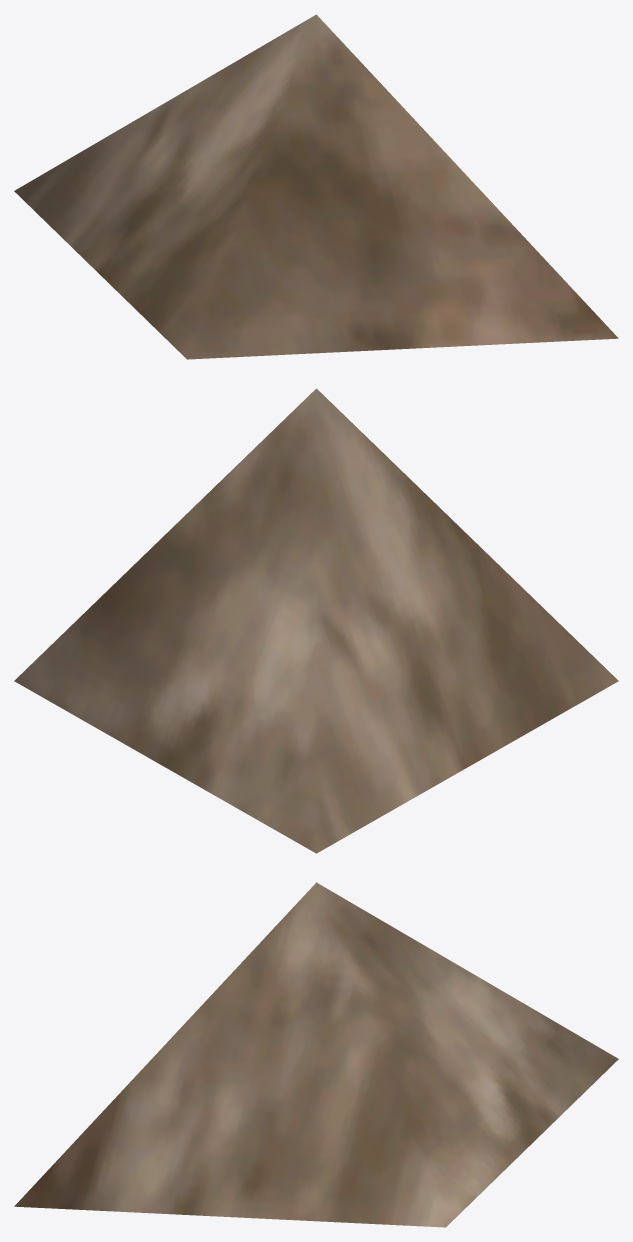
Rendered from OVERHILL_A_01_PLANE19.fbx.
The picture shows the model from 3 angles, top to bottom: view 1: azimuth 30°, elevation 25°; view 2: azimuth 150°, elevation 25°; view 3: azimuth 270°, elevation 25°; orthographic projection. The views are drawn at different scales.
Parts seen in each view (by area): view 1: OVERHILL_A_01_PLANE19; view 2: OVERHILL_A_01_PLANE19; view 3: OVERHILL_A_01_PLANE19.
Part boxes in pixels (x1=…): OVERHILL_A_01_PLANE19: x1=14, y1=14, x2=618, y2=359; OVERHILL_A_01_PLANE19: x1=14, y1=388, x2=618, y2=853; OVERHILL_A_01_PLANE19: x1=14, y1=882, x2=618, y2=1227.
Bounding box in the file's own units: 1021 × 630 × 1379.
Materials: 1 (1 with a texture image).
